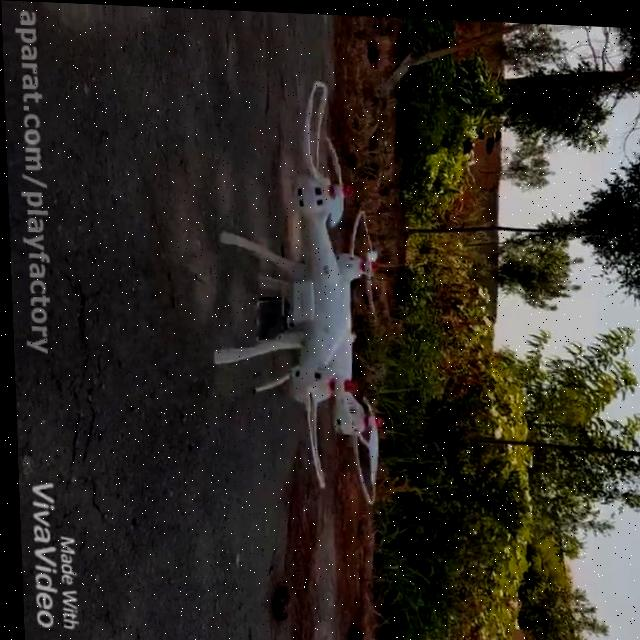drone: (201, 72, 387, 504)
